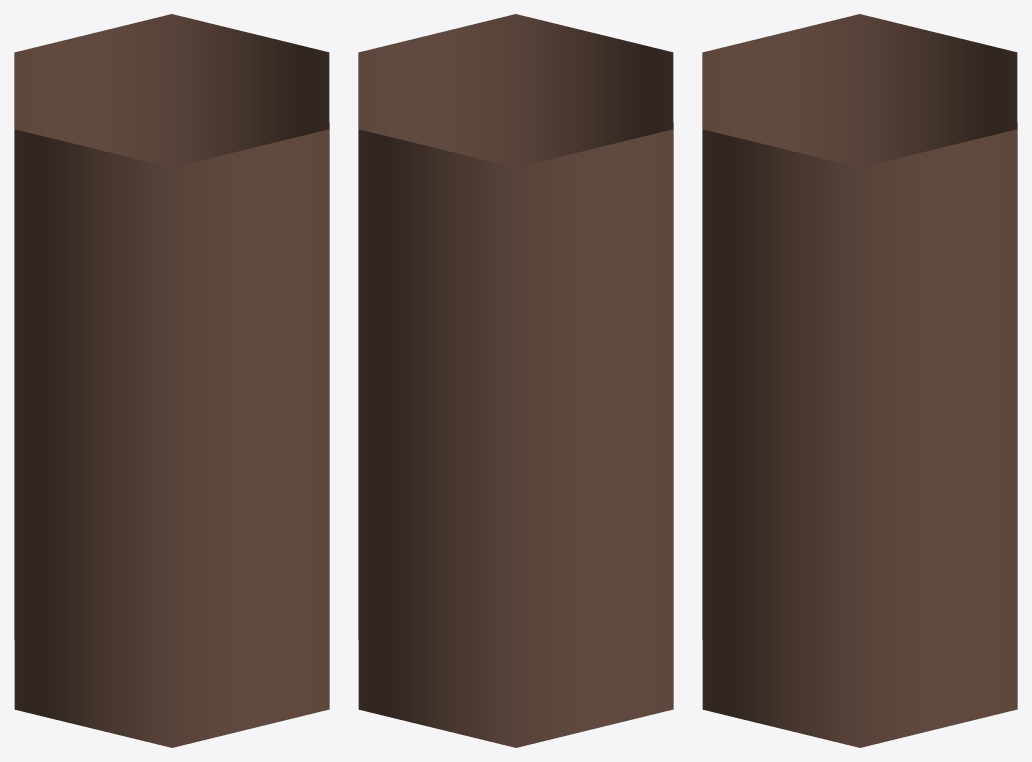
The model's file is Neck.fbx.
The picture shows the model from 3 angles, left to right: view 1: azimuth 30°, elevation 25°; view 2: azimuth 150°, elevation 25°; view 3: azimuth 270°, elevation 25°; orthographic projection.
Visible parts, largest first — view 1: Neck; view 2: Neck; view 3: Neck.
Boxes of the visible parts, <box> form: Neck: <box>14,14,329,747</box>; Neck: <box>358,14,673,747</box>; Neck: <box>702,14,1017,747</box>.
Bounding box in the file's own units: 84.83 × 149 × 73.49.
